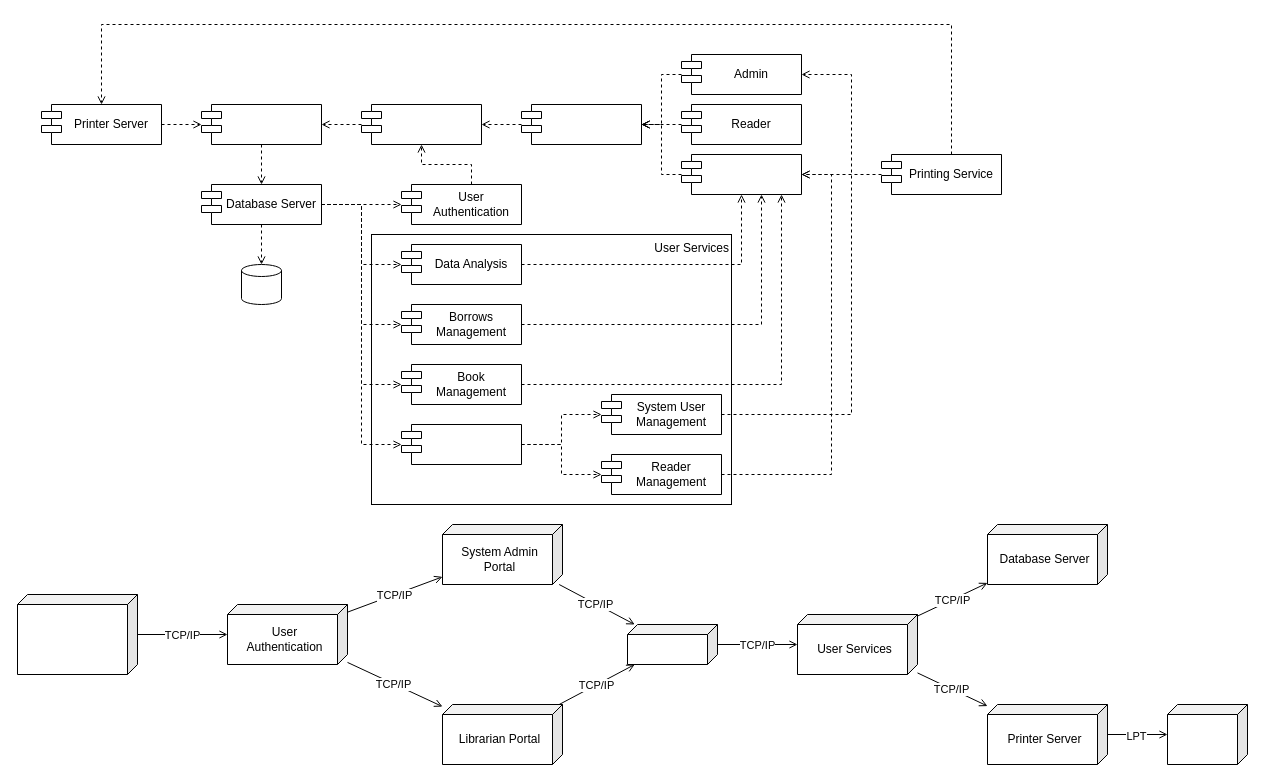
The diagram is 1265 pixels wide and 782 high, and some of its shapes have lost their labels. The box of each missing label's shape, as (x1, y1, x2, y2) in pixels:
Client Management Software: (16, 594, 138, 674)
Database: (240, 264, 282, 304)
Firewall: (626, 624, 718, 664)
Librarian: (680, 154, 802, 194)
Management Server: (200, 104, 322, 144)
Management Software: (360, 104, 482, 144)
Printer: (1166, 704, 1248, 764)
User: (520, 104, 642, 144)
User Management: (400, 424, 522, 464)
